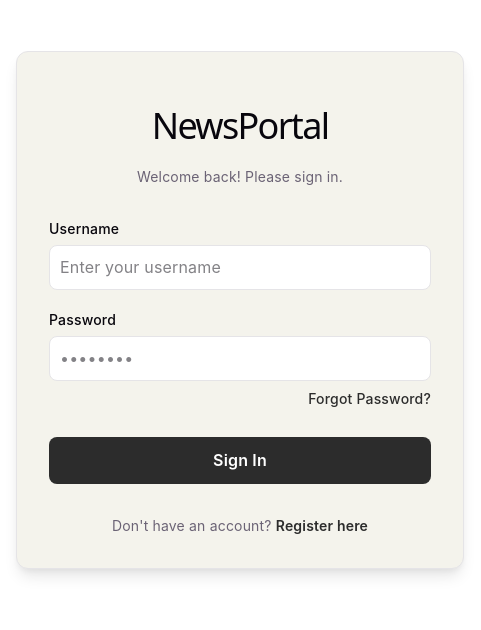
Test case: Login Component › displays error message on failed login
The width and height of the screenshot is (481, 630).
# Fill out the form
Type "wronguser" into the field with placeholder "Enter your username" at [240, 267], box [49,245,431,290]
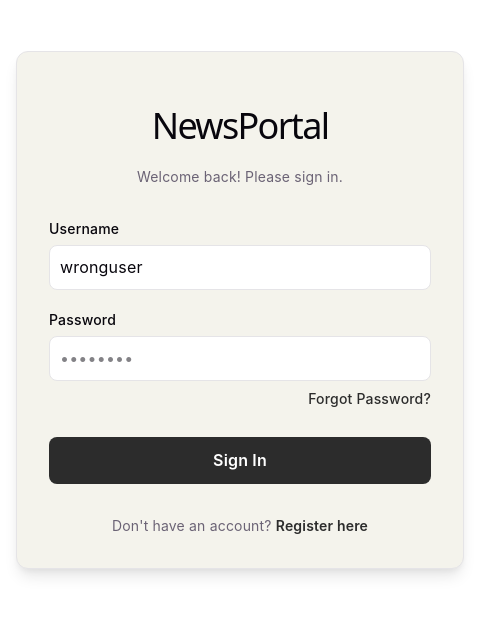
Type "wrongpass" into the password field with placeholder "••••••••" at [240, 359], box [49,336,431,381]
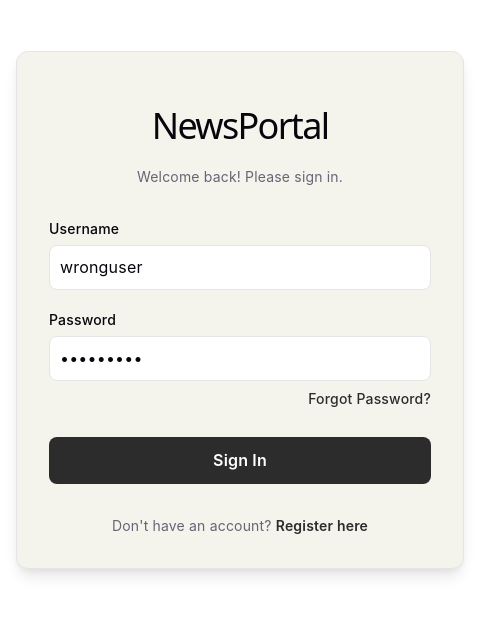
# Submit the form
Click the button "Sign In" at [240, 461], box [49,437,431,484]
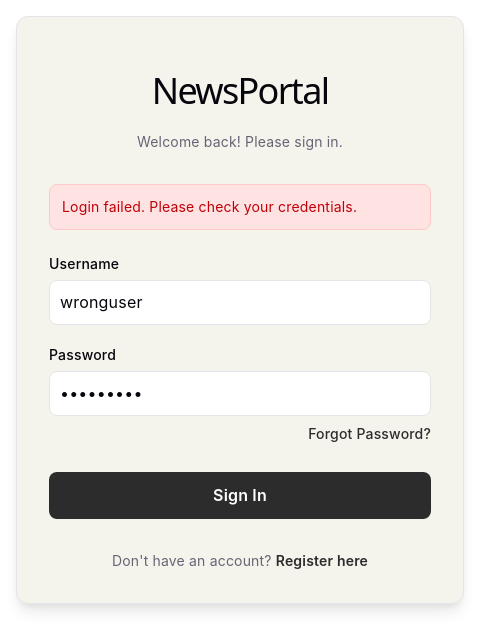
Expected: the text "Login failed. Please check your credentials." is shown, [49,184,431,230]
